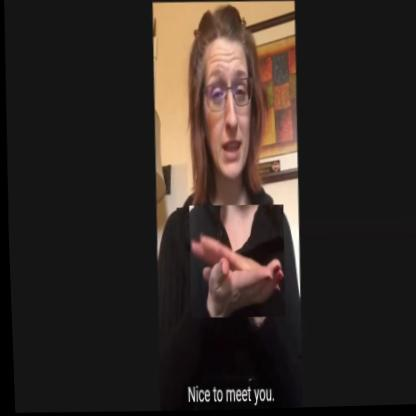NiceToMeetYou: (185, 205, 284, 321)
